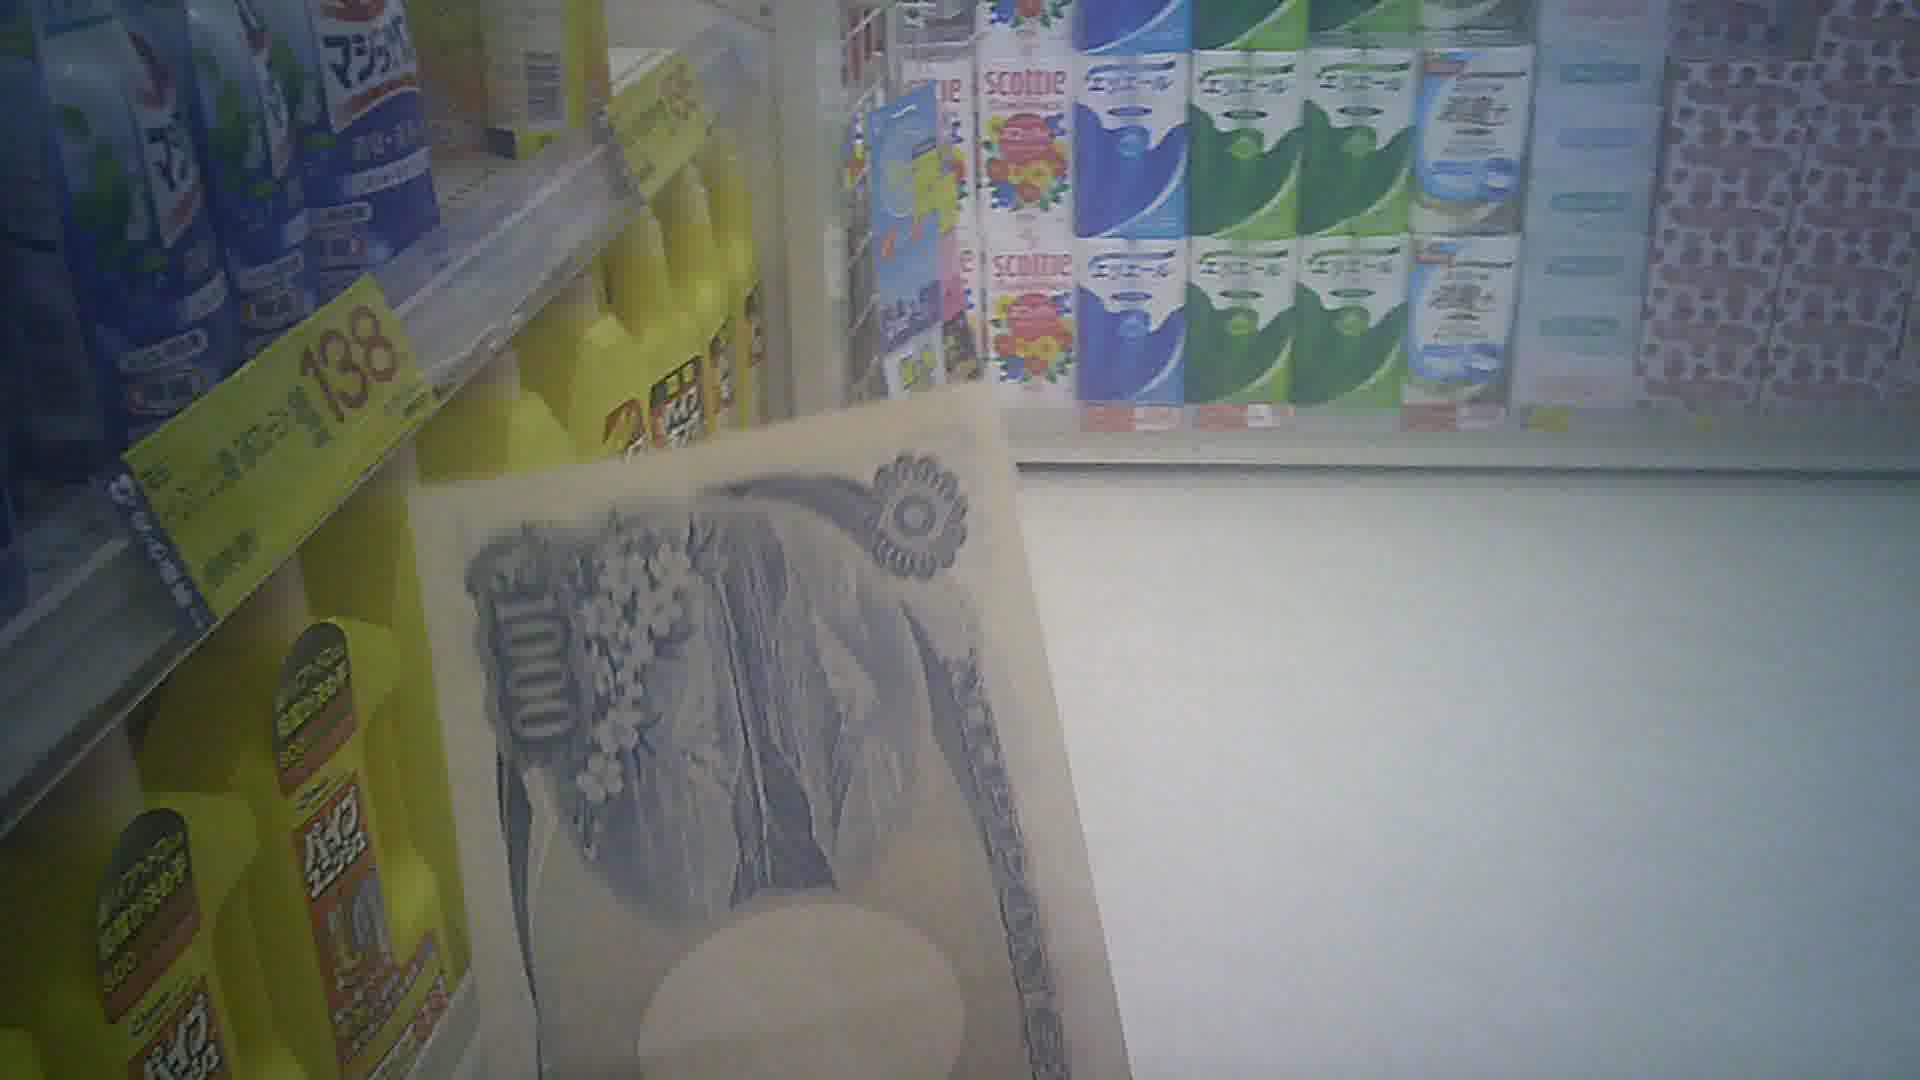1,000 Yen: (405, 397, 1155, 1077)
